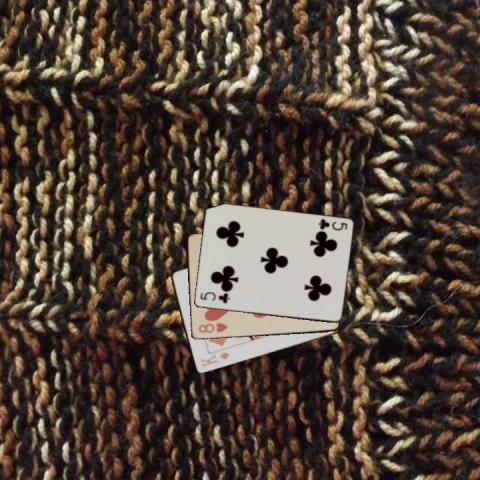5c: (196, 289, 230, 305), (315, 216, 348, 232)
8h: (196, 320, 229, 335)
Kd: (197, 349, 231, 369)
